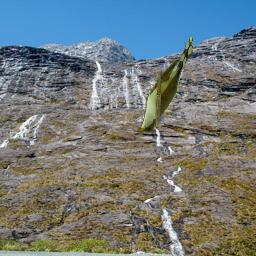Cuckoo: (137, 37, 193, 133)
